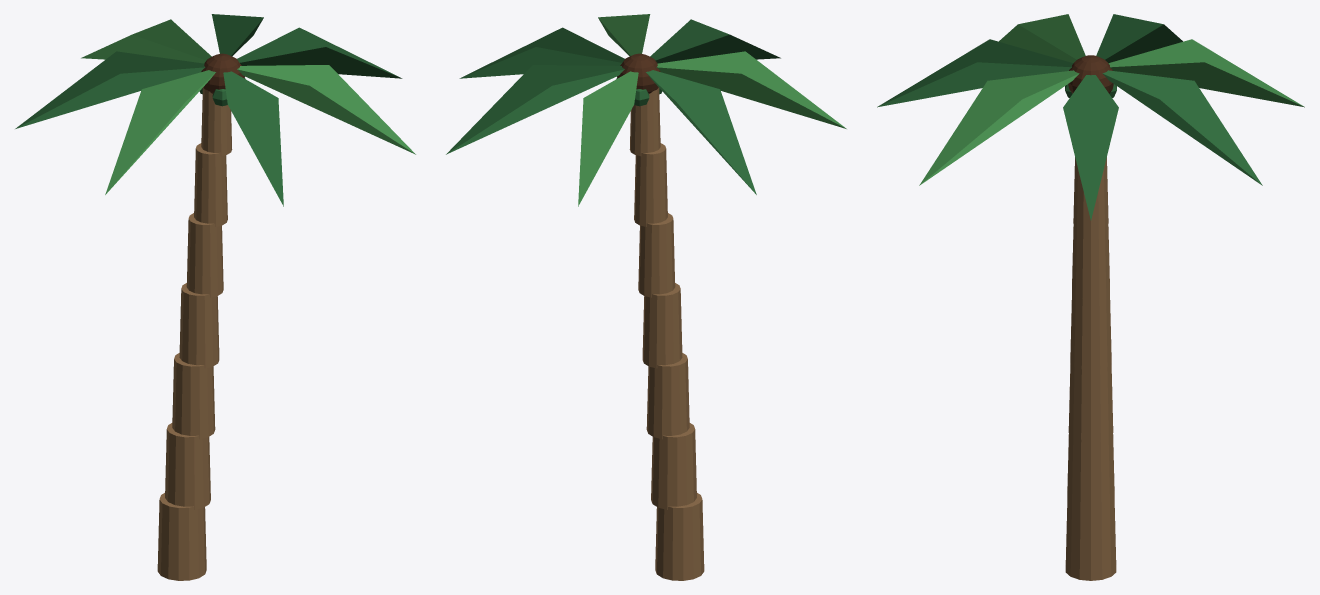
Rendered from palm_tree.obj.
3 renders of one model, left to right at view 1: azimuth 30°, elevation 25°; view 2: azimuth 150°, elevation 25°; view 3: azimuth 270°, elevation 25°, orthographic. The views are drawn at different scales.
Visible parts, largest first — view 1: palm_tree; view 2: palm_tree; view 3: palm_tree.
Boxes of the visible parts, <box> form: palm_tree: <box>15,14,415,580</box>; palm_tree: <box>446,14,846,580</box>; palm_tree: <box>877,14,1304,580</box>.
Size of the model in its own units: 2.09 by 2.94 by 2.14.
